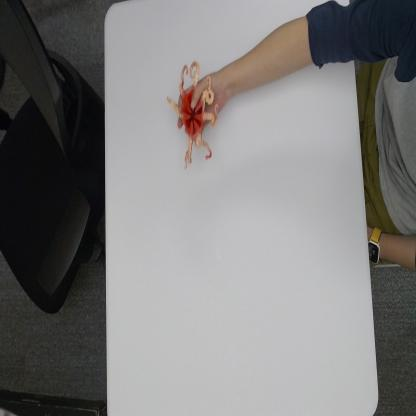Arm: (217, 18, 313, 109)
Hand: (177, 73, 228, 121)
Octopus: (166, 60, 218, 167)
